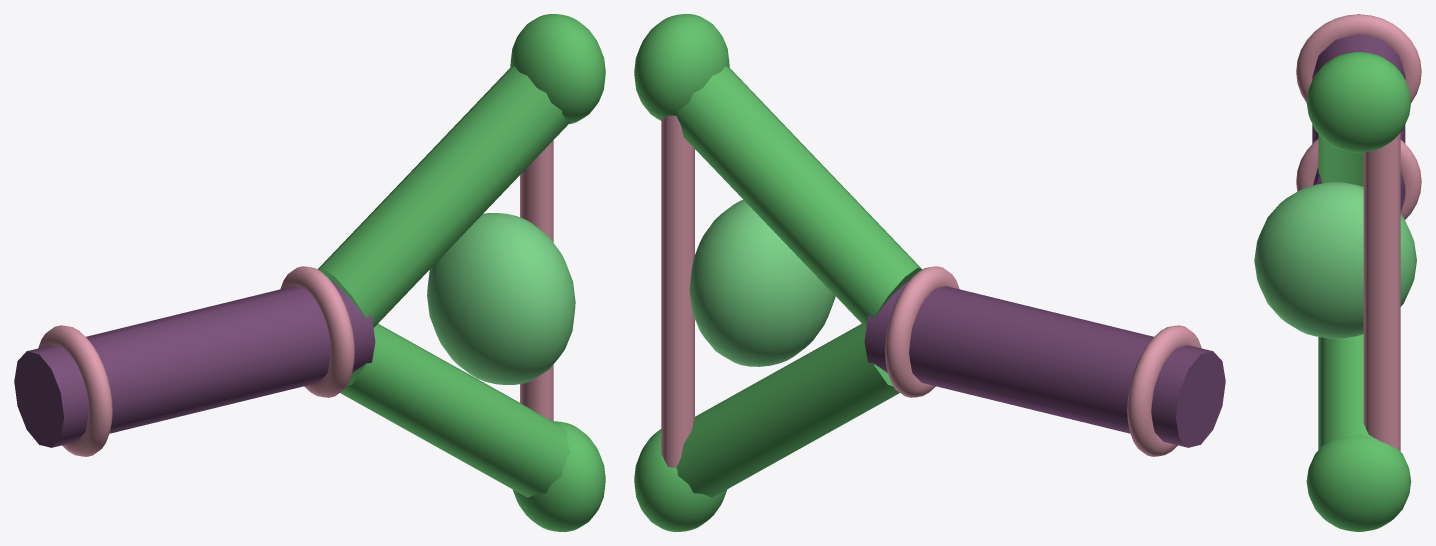
File: wpn_jellysling.glb
3 views of the same model, side by side, from view 1: azimuth 30°, elevation 25°; view 2: azimuth 150°, elevation 25°; view 3: azimuth 270°, elevation 25° (orthographic). The views are drawn at different scales.
Visible parts, largest first — view 1: object 1, cyl.002, cyl.001, torus.001, torus; view 2: object 1, cyl.002, cyl.001, torus, torus.001; view 3: object 1, cyl.001, torus, torus.001, cyl.002.
Boxes of the visible parts, x1,y1,x2,y2 form: object 1: [14, 14, 605, 531]; cyl.002: [317, 66, 570, 327]; cyl.001: [340, 324, 570, 497]; torus.001: [280, 266, 354, 397]; torus: [38, 325, 112, 456]; object 1: [634, 14, 1225, 531]; cyl.002: [676, 66, 922, 327]; cyl.001: [676, 324, 899, 497]; torus: [1127, 325, 1201, 456]; torus.001: [885, 266, 959, 397]; object 1: [1254, 14, 1416, 531]; cyl.001: [1318, 334, 1371, 449]; torus: [1296, 14, 1421, 102]; torus.001: [1296, 139, 1421, 219]; cyl.002: [1318, 134, 1363, 186].
Bounding box in the file's own units: 0.645 × 0.5625 × 0.18.
